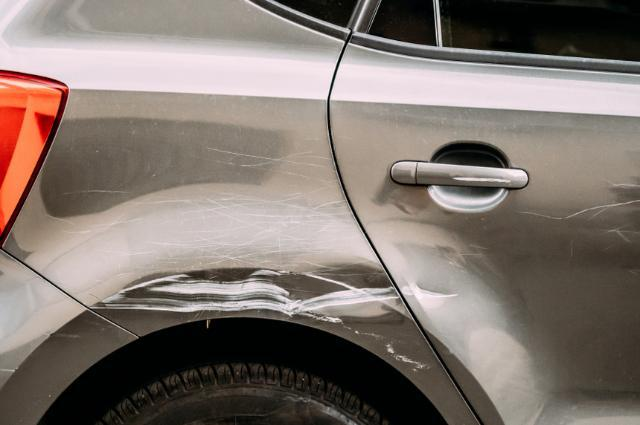Door: (399, 155, 640, 309)
Fender: (87, 126, 444, 386)
